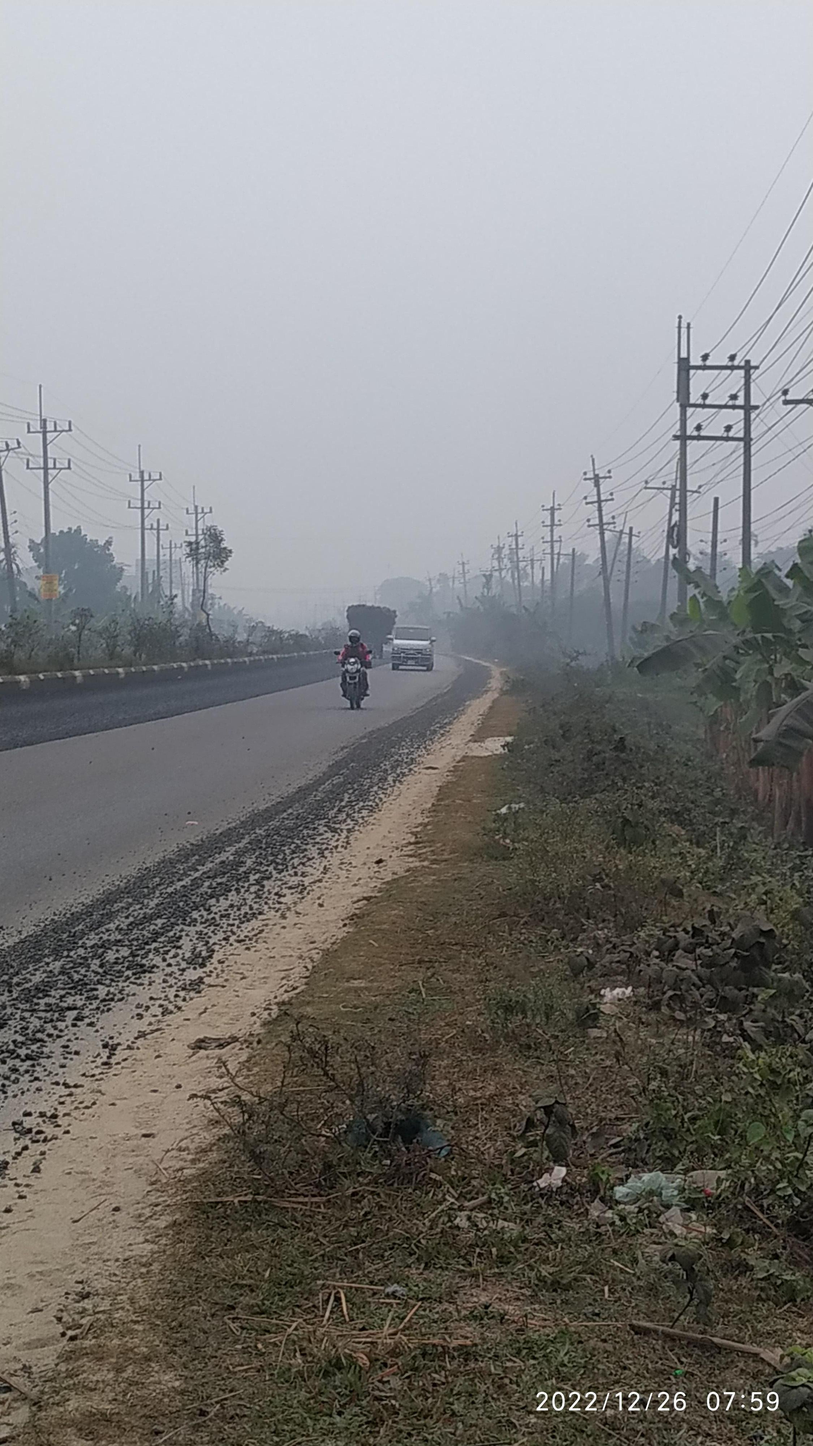Bike: (318, 619, 384, 718)
Truck: (384, 610, 443, 684)
